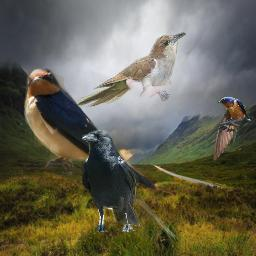Crow: (82, 130, 140, 232)
Cuckoo: (75, 32, 186, 107)
Swallow: (23, 67, 177, 240), (212, 96, 252, 160)
